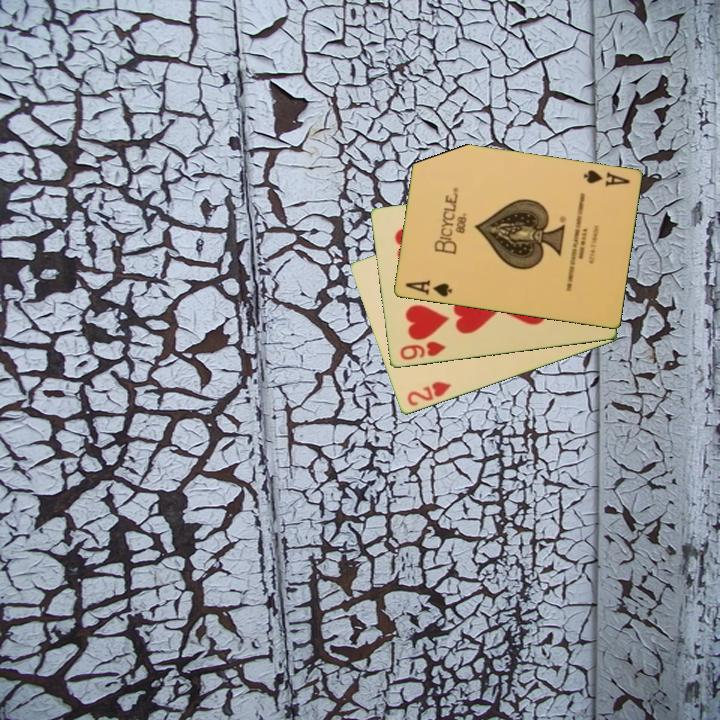2h: (403, 378, 454, 409)
9h: (396, 338, 449, 363)
As: (579, 167, 632, 190), (402, 277, 454, 300)
